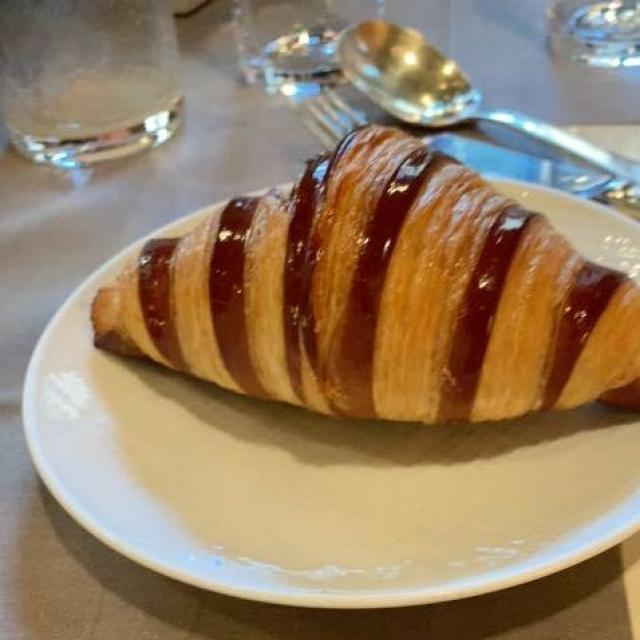croissant: (96, 132, 633, 424)
